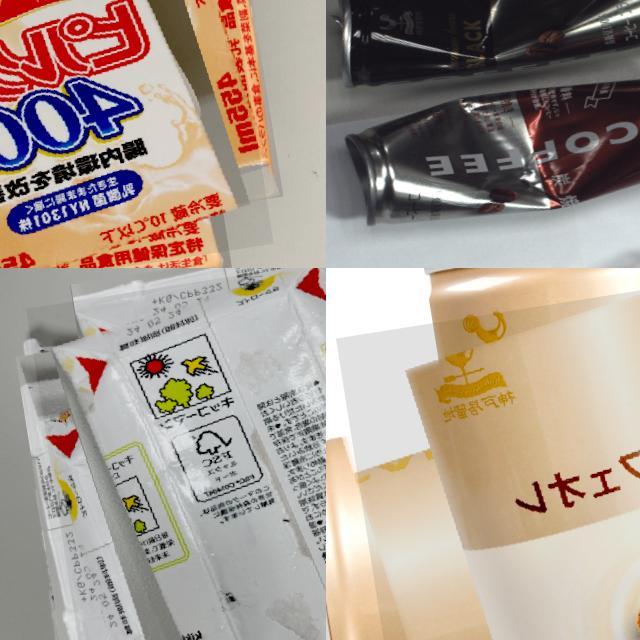Aluminium Foil: (25, 268, 326, 640), (0, 0, 273, 268)
Can: (335, 268, 640, 640), (353, 64, 640, 241), (333, 0, 640, 94)
Transparent Plastic Bottle: (326, 203, 640, 268)
